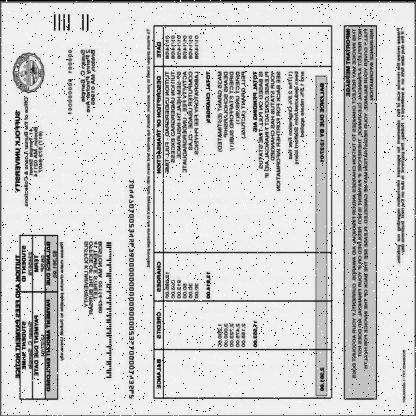Paragraph: (344, 24, 377, 398), (20, 234, 58, 398), (13, 94, 45, 207), (394, 23, 408, 268), (66, 46, 98, 116), (127, 176, 136, 400), (144, 25, 152, 270), (82, 237, 104, 317), (58, 238, 66, 362), (14, 252, 20, 380), (400, 344, 408, 404)
Table: (154, 25, 332, 396)
